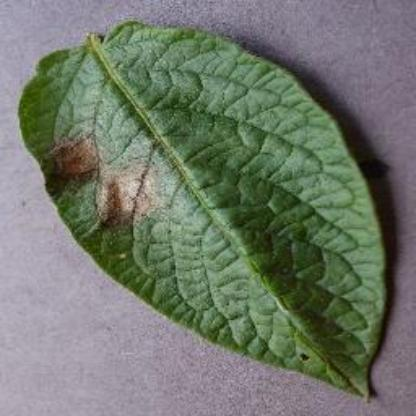Late-Blight: (20, 25, 386, 401)
